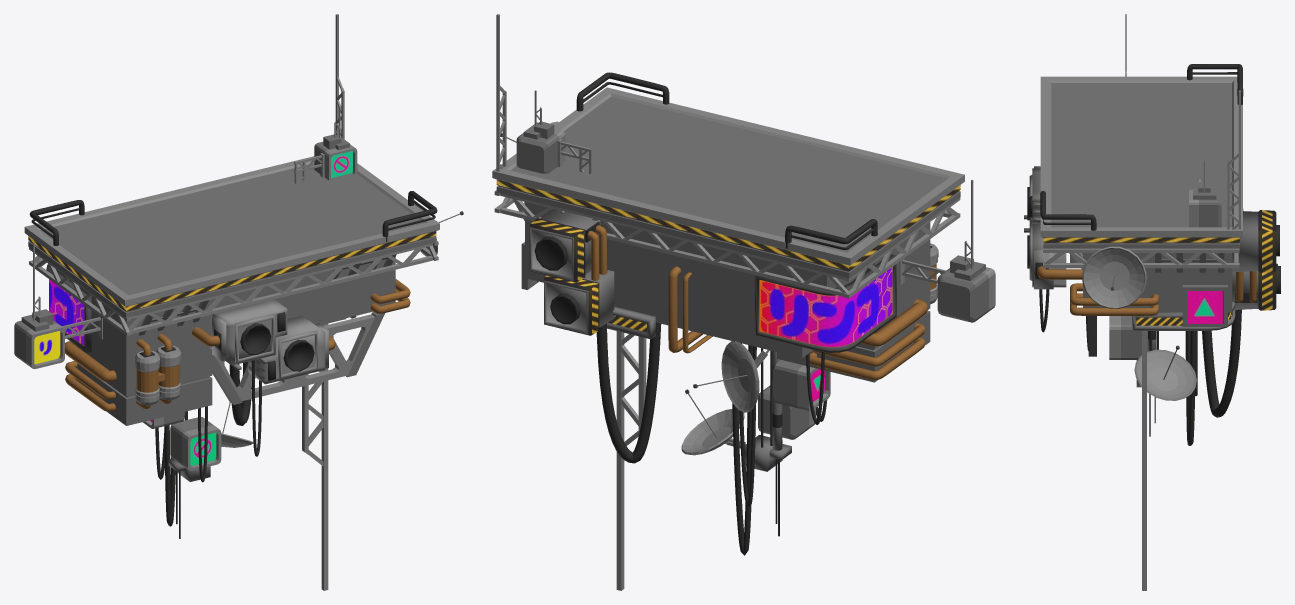
Rendered from Platform_4x2.glb.
3 views of the same model, side by side, from view 1: azimuth 30°, elevation 25°; view 2: azimuth 150°, elevation 25°; view 3: azimuth 270°, elevation 25° (orthographic). The views are drawn at different scales.
Parts seen in each view (by area): view 1: Platform_4x2; view 2: Platform_4x2; view 3: Platform_4x2.
Part boxes in pixels (x1,y1,x2,y2): Platform_4x2: (14,14,463,590); Platform_4x2: (492,14,995,590); Platform_4x2: (1024,14,1280,590).
Size of the model in its own units: 5.32 by 6.16 by 2.71.
6 materials, 1 textured.
